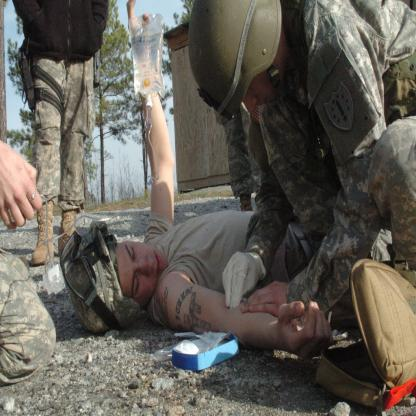Helmet: (188, 0, 282, 126), (58, 218, 143, 337)
